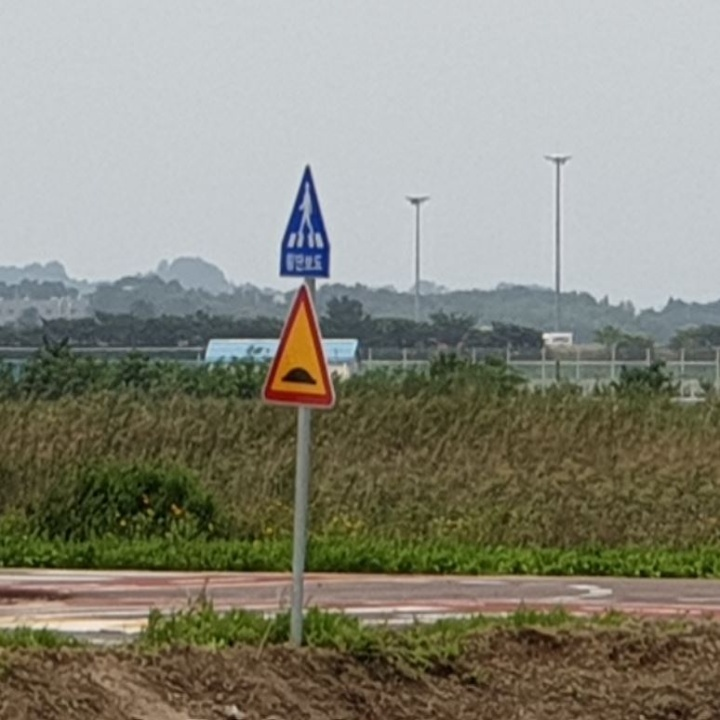bump: (260, 286, 338, 412)
cross: (286, 176, 324, 246)
